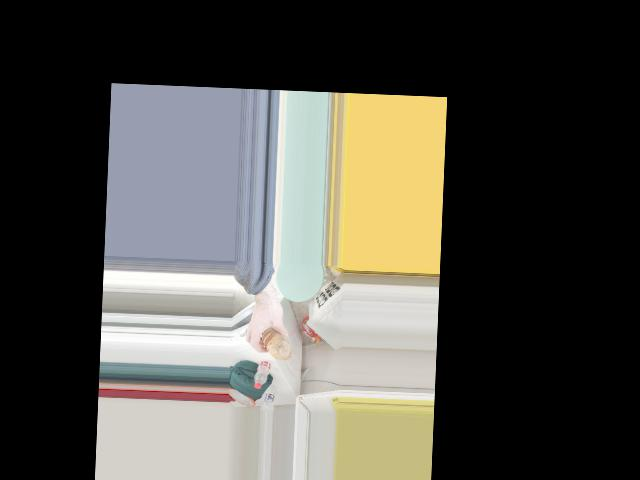sweet_potato: (261, 325, 291, 359)
